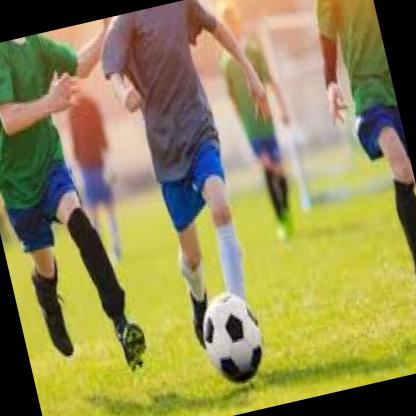ball: (196, 288, 272, 390)
